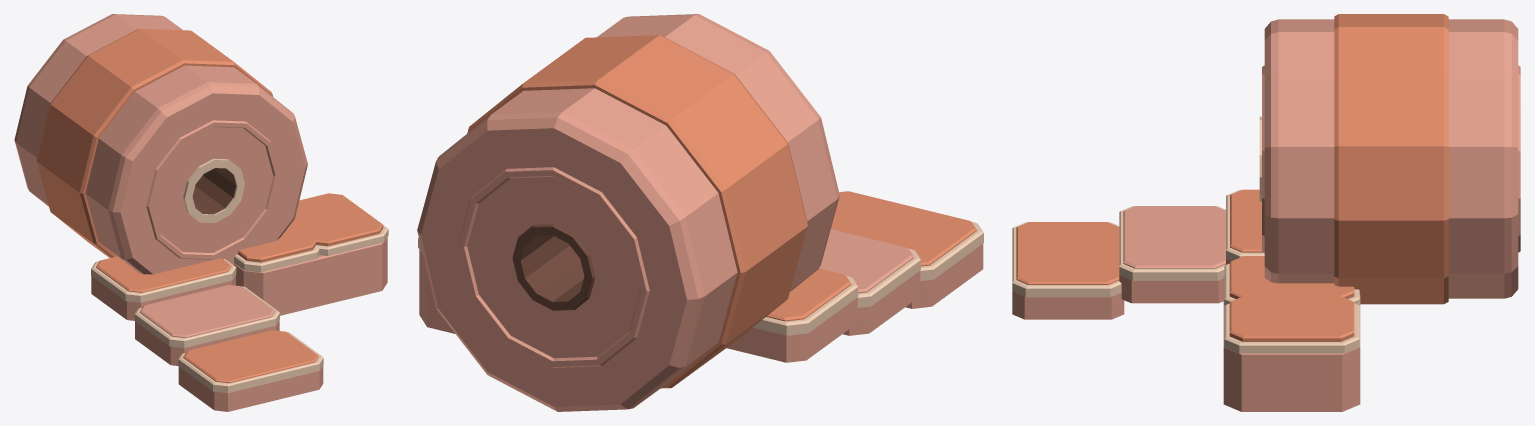
3 renders of one model, left to right at view 1: azimuth 30°, elevation 25°; view 2: azimuth 150°, elevation 25°; view 3: azimuth 270°, elevation 25°, orthographic. The views are drawn at different scales.
Parts seen in each view (by area): view 1: body, static_pal_woodWarm, static_pal_picketWhite, static_pal_uiDark; view 2: body, static_pal_woodWarm, static_pal_uiDark, static_pal_picketWhite; view 3: body, static_pal_woodWarm, static_pal_picketWhite.
Boxes of the visible parts, bbox=[...] form: body: bbox=[14, 14, 387, 411]; static_pal_woodWarm: bbox=[36, 28, 383, 383]; static_pal_picketWhite: bbox=[91, 158, 388, 393]; static_pal_uiDark: bbox=[192, 168, 236, 214]; body: bbox=[417, 14, 983, 411]; static_pal_woodWarm: bbox=[467, 35, 976, 388]; static_pal_uiDark: bbox=[512, 224, 595, 310]; static_pal_picketWhite: bbox=[418, 191, 983, 335]; body: bbox=[1012, 19, 1520, 411]; static_pal_woodWarm: bbox=[1016, 14, 1448, 341]; static_pal_picketWhite: bbox=[1012, 116, 1359, 353].
Bounding box in the file's own units: 0.763 × 0.635 × 1.02.
